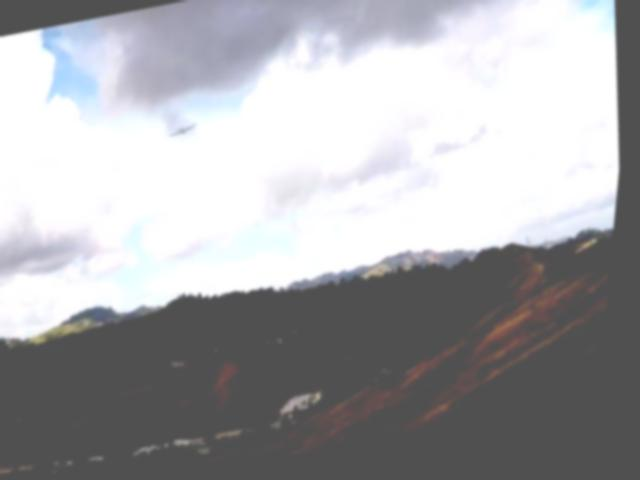iha: (166, 118, 208, 147)
